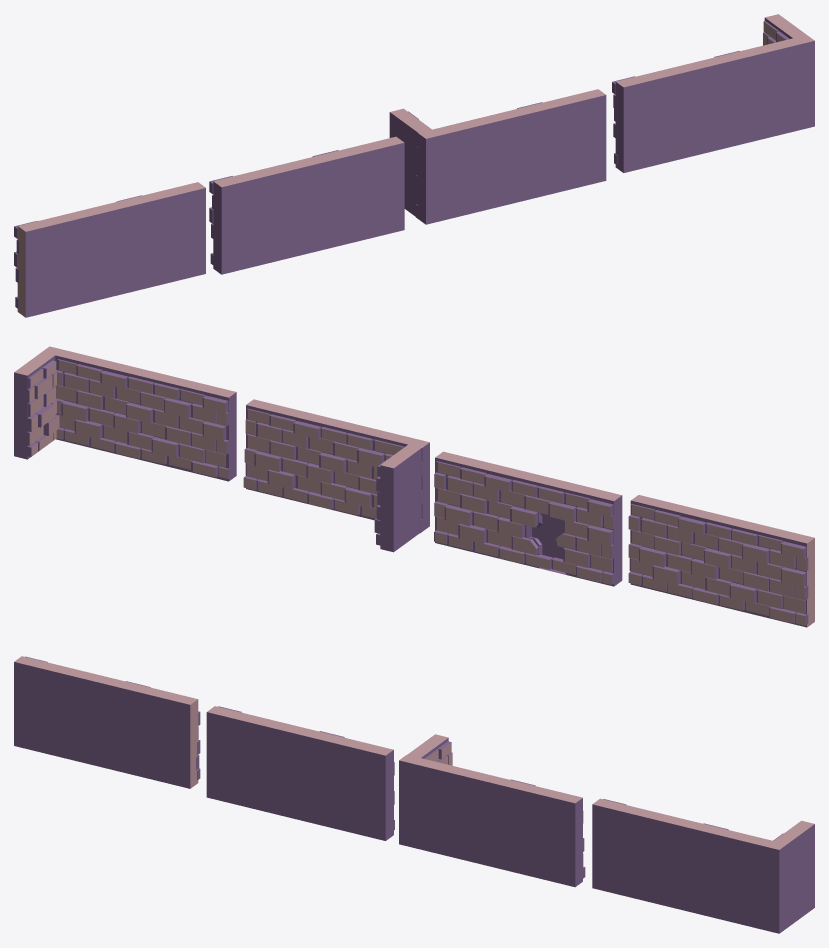
The model's file is murs_set02.fbx.
3 views of the same model, one above another, from view 1: azimuth 30°, elevation 25°; view 2: azimuth 150°, elevation 25°; view 3: azimuth 330°, elevation 25° (orthographic). The views are drawn at different scales.
Parts seen in each view (by area): view 1: murs_coin_mauve_02, murs_coin_mauve_01, murs_brise_mauve, murs_simple_mauve; view 2: murs_coin_mauve_02, murs_coin_mauve_01, murs_brise_mauve, murs_simple_mauve; view 3: murs_coin_mauve_02, murs_coin_mauve_01, murs_brise_mauve, murs_simple_mauve.
Boxes of the visible parts, x1=… form: murs_coin_mauve_02: x1=612, y1=14, x2=814, y2=172; murs_coin_mauve_01: x1=389, y1=89, x2=606, y2=224; murs_brise_mauve: x1=209, y1=136, x2=404, y2=274; murs_simple_mauve: x1=14, y1=182, x2=205, y2=317; murs_coin_mauve_02: x1=14, y1=346, x2=236, y2=481; murs_coin_mauve_01: x1=243, y1=399, x2=429, y2=552; murs_brise_mauve: x1=434, y1=451, x2=622, y2=586; murs_simple_mauve: x1=628, y1=495, x2=814, y2=627; murs_coin_mauve_02: x1=592, y1=798, x2=814, y2=933; murs_coin_mauve_01: x1=399, y1=734, x2=585, y2=887; murs_brise_mauve: x1=206, y1=706, x2=394, y2=840; murs_simple_mauve: x1=14, y1=656, x2=200, y2=788.
Size of the model in its own units: 125 by 14.18 by 10.14.
Materials: 1 (1 with a texture image).
